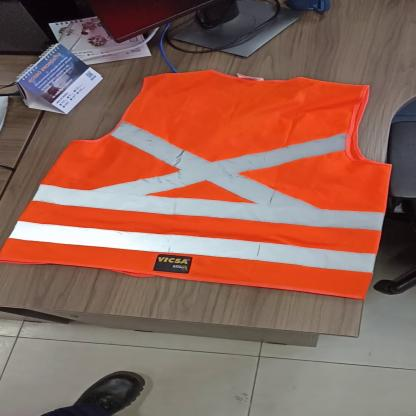colete: (0, 68, 391, 300)
